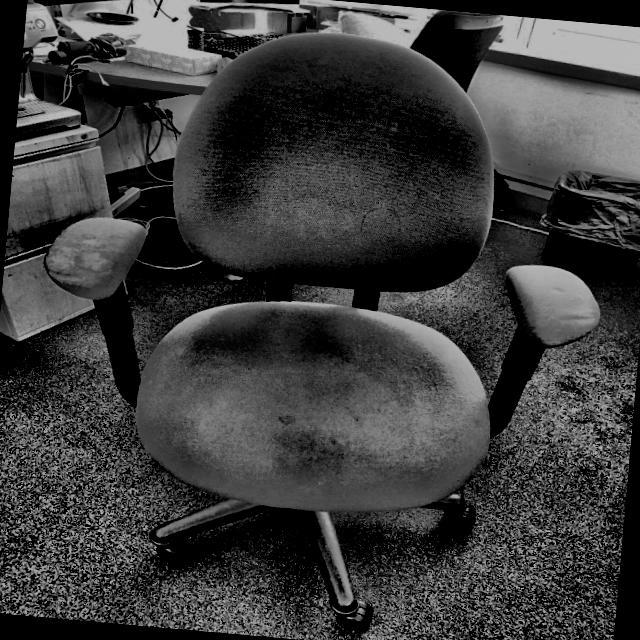chair: (19, 12, 625, 640)
